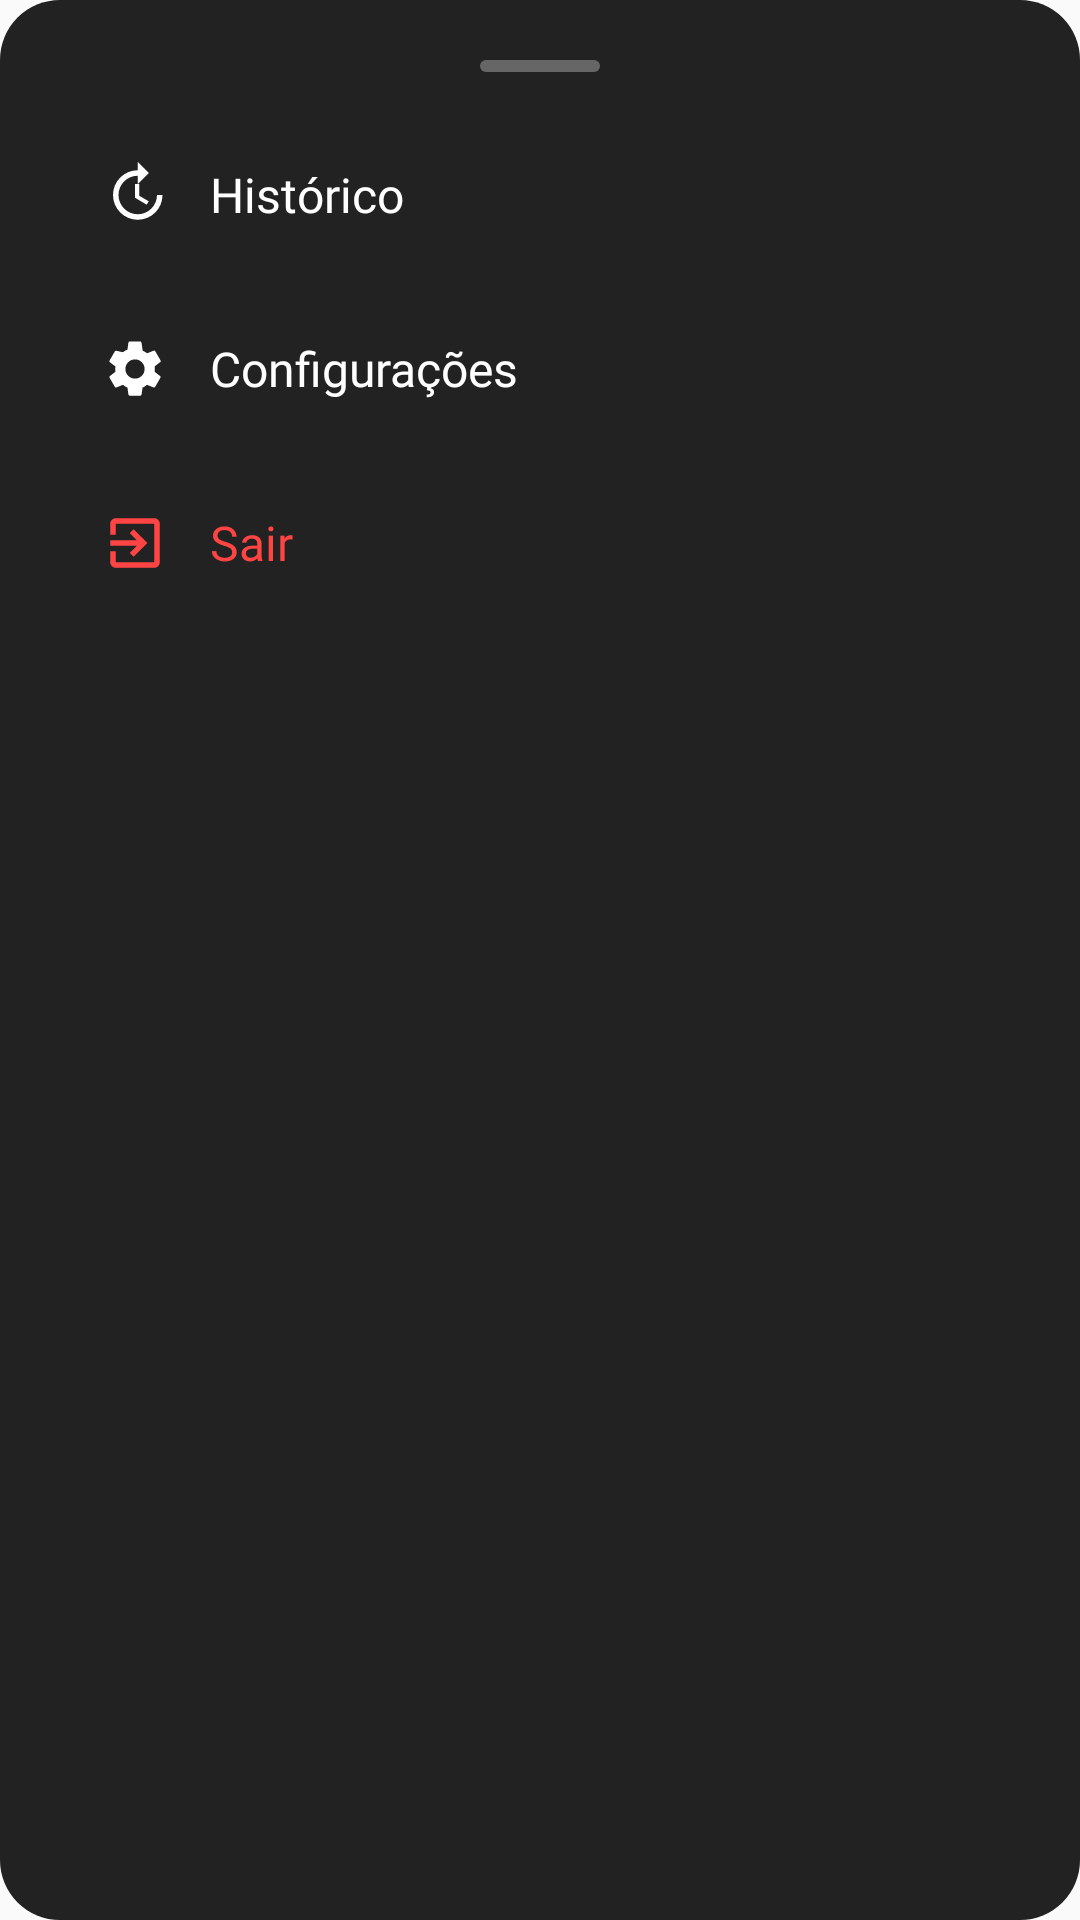

Where to tap for icons on this 1080px x 1920px app screen, as [x,y]:
exit: [135,543]
history: [138,191]
settings: [135,368]
